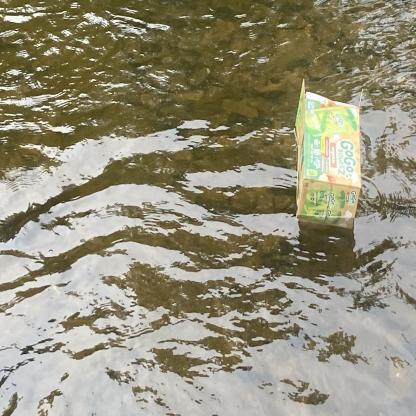trash: (292, 75, 364, 230)
